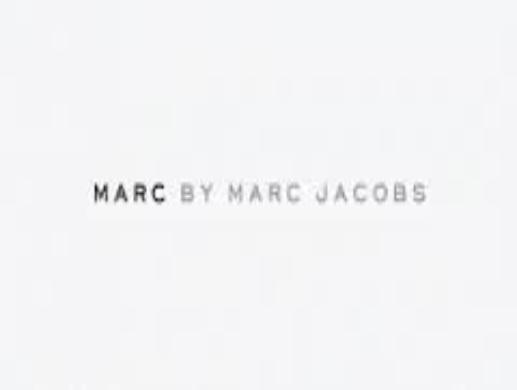MARC-JACOBS: (65, 167, 435, 223)
